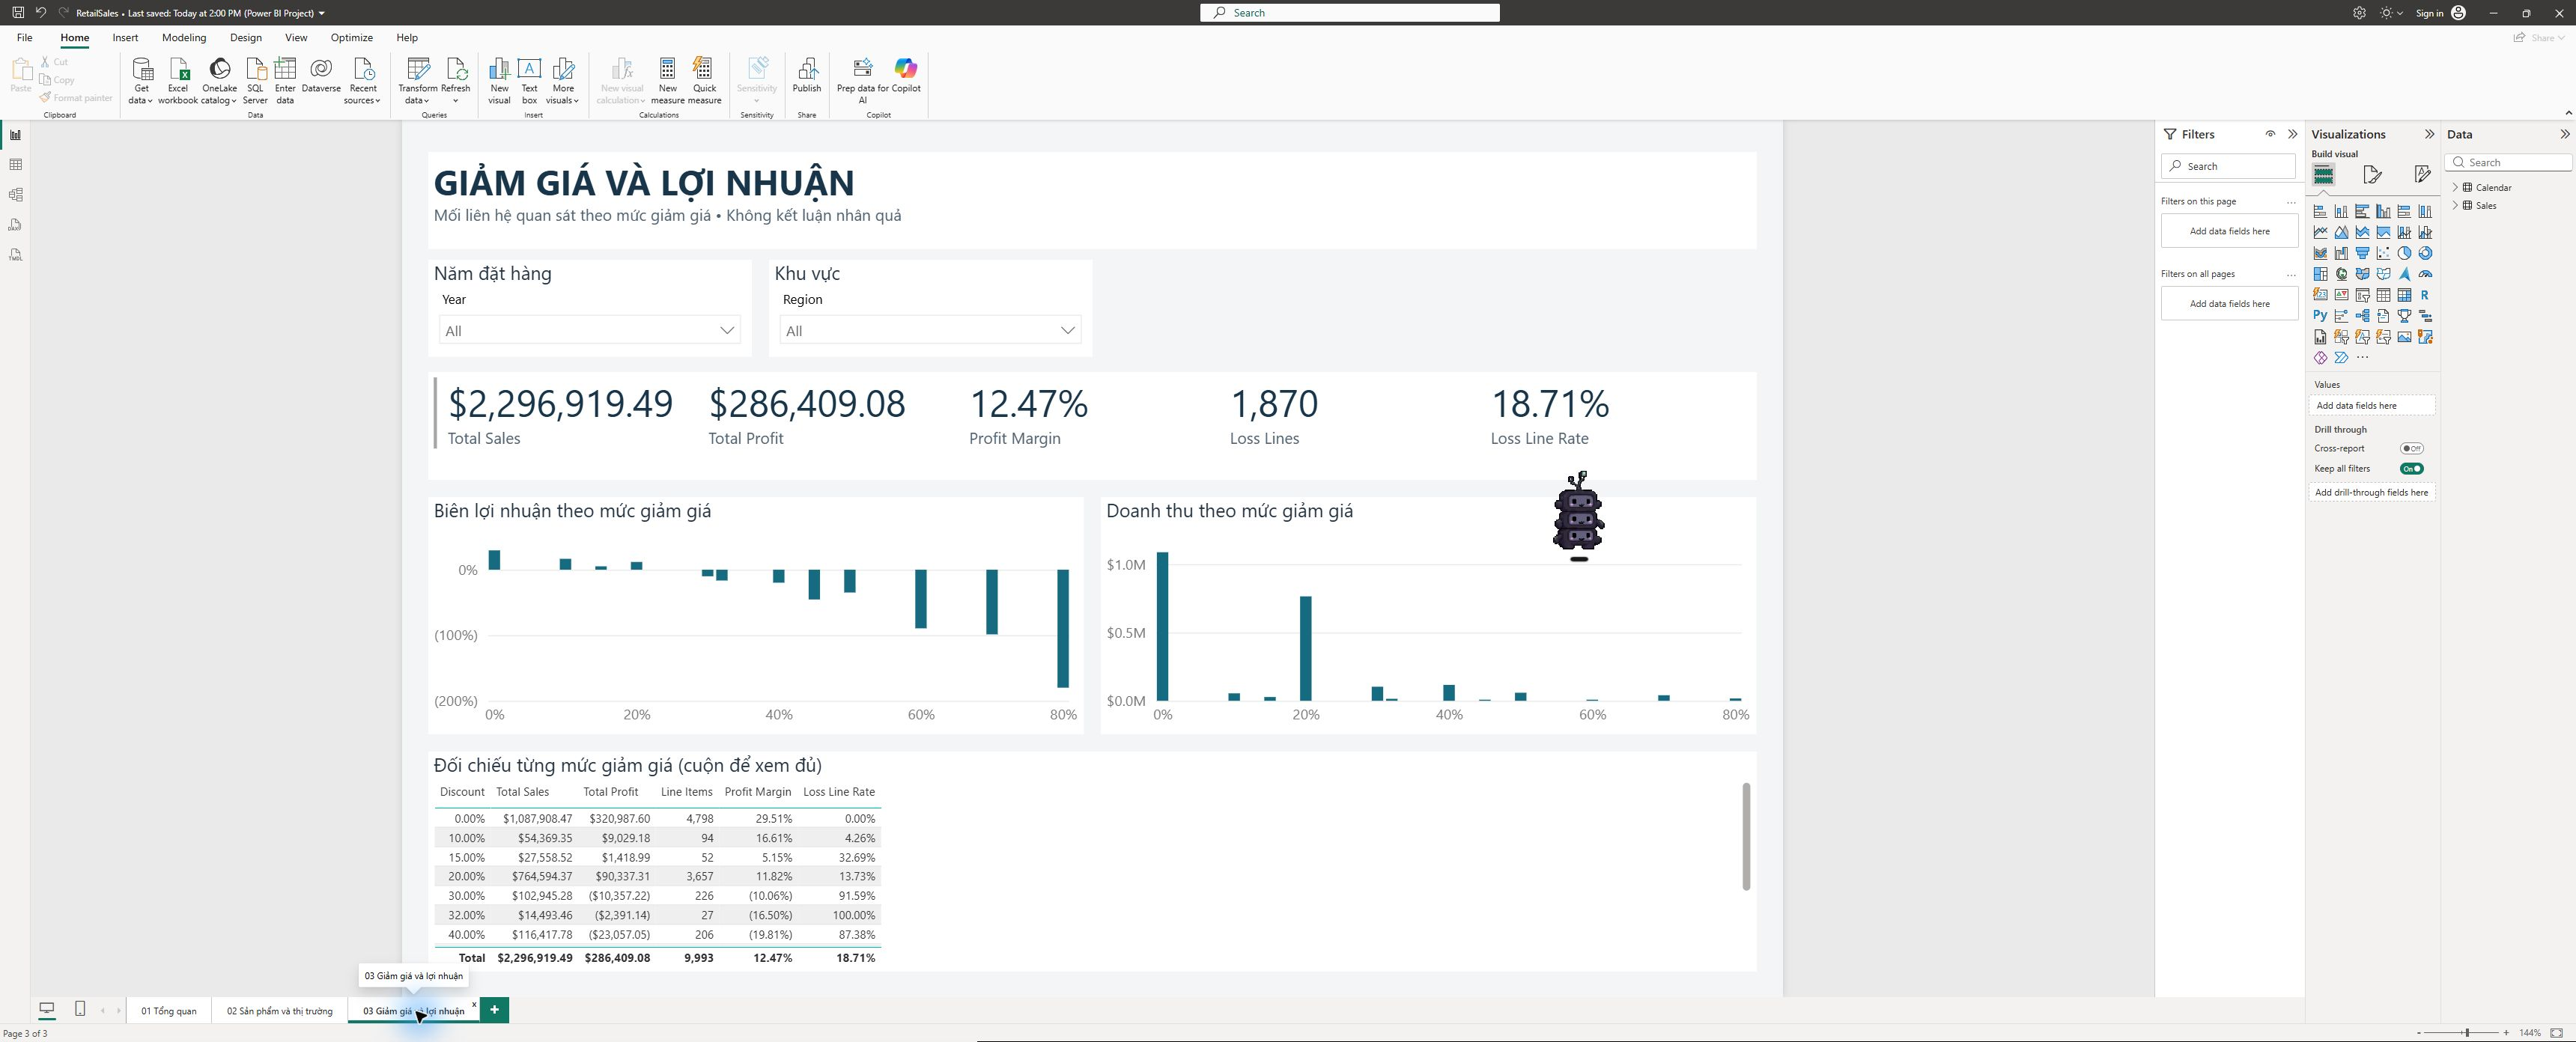

What the dashboard file says about the page in this screenshot:
{"tool":"powerbi","page":{"name":"03  Giảm giá và lợi nhuận","canvas":[1280,800],"ordinal":2},"visuals":[{"type":"textbox","box":[24,16,1232,90],"z":0},{"type":"slicer","title":"Năm đặt hàng","fields":{"Values":["Calendar.Year"]},"box":[24,116,300,90],"z":1},{"type":"slicer","title":"Khu vực","fields":{"Values":["Sales.Region"]},"box":[340,116,300,90],"z":2},{"type":"multiRowCard","fields":{"Values":["Sales.Total Sales","Sales.Total Profit","Sales.Profit Margin","Sales.Loss Lines","Sales.Loss Line Rate"]},"box":[24,220,1232,100],"z":3},{"type":"clusteredColumnChart","title":"Biên lợi nhuận theo mức giảm giá","fields":{"Category":["Sales.Discount"],"Y":["Sales.Profit Margin"]},"box":[24,336,608,220],"z":4},{"type":"clusteredColumnChart","title":"Doanh thu theo mức giảm giá","fields":{"Category":["Sales.Discount"],"Y":["Sales.Total Sales"]},"box":[648,336,608,220],"z":5},{"type":"tableEx","title":"Đối chiếu từng mức giảm giá (cuộn để xem đủ)","fields":{"Values":["Sales.Discount","Sales.Total Sales","Sales.Total Profit","Sales.Line Items","Sales.Profit Margin","Sales.Loss Line Rate"]},"box":[24,572,1232,204],"z":6}]}

Visuals, with their boxes on the page's 1280x800 design canvas (x1, y1, x2, y2). These are canvas units, not pixel positions in the 2576x1042 screenshot, which may show the page scaled, cropped or inside an application window:
textbox: 24:16:1256:106
"Năm đặt hàng" slicer: 24:116:324:206
"Khu vực" slicer: 340:116:640:206
multiRowCard - Sales.Total Sales x Sales.Total Profit: 24:220:1256:320
"Biên lợi nhuận theo mức giảm giá" clusteredColumnChart: 24:336:632:556
"Doanh thu theo mức giảm giá" clusteredColumnChart: 648:336:1256:556
"Đối chiếu từng mức giảm giá (cuộn để xem đủ)" tableEx: 24:572:1256:776
